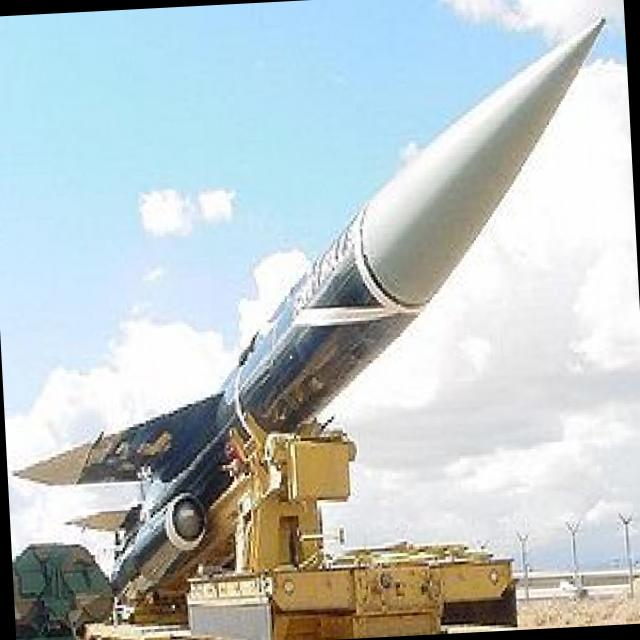rocket: (0, 22, 631, 556)
